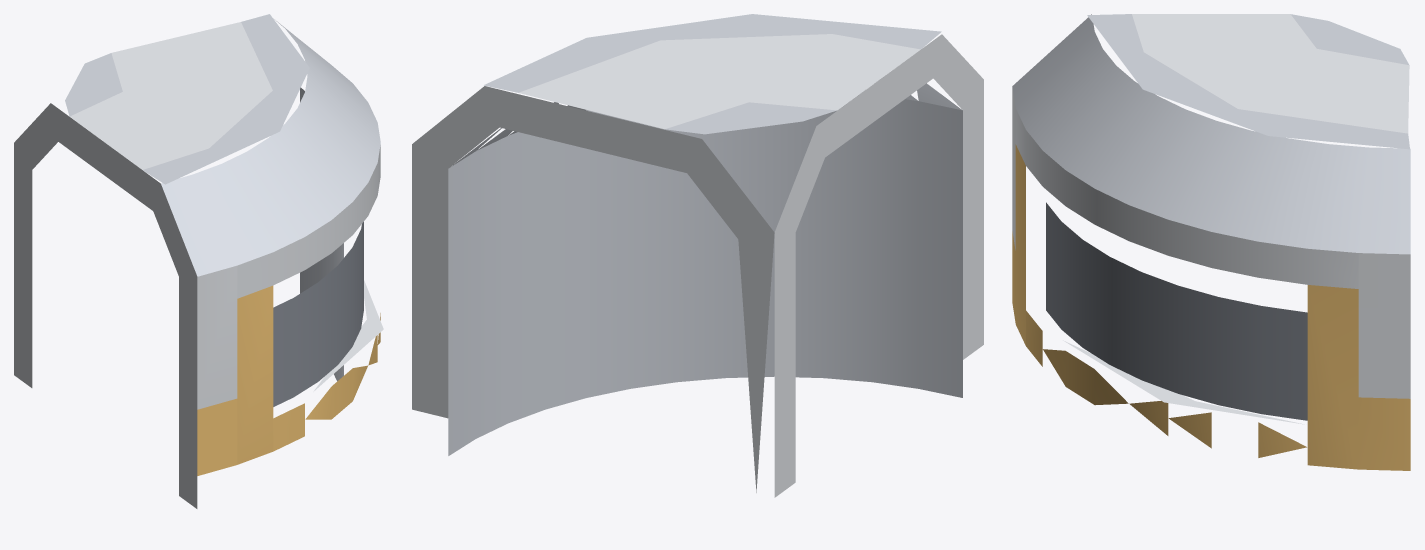
Rendered from corridor_cornerRoundWindow_lod1.glb.
The picture shows the model from 3 angles, left to right: view 1: azimuth 30°, elevation 25°; view 2: azimuth 150°, elevation 25°; view 3: azimuth 270°, elevation 25°; orthographic projection. The views are drawn at different scales.
Parts seen in each view (by area): view 1: corridor_cornerRoundWindow.001; view 2: corridor_cornerRoundWindow.001; view 3: corridor_cornerRoundWindow.001.
Part boxes in pixels (x1,y1,x2,y2): corridor_cornerRoundWindow.001: [14, 14, 383, 508]; corridor_cornerRoundWindow.001: [412, 14, 983, 497]; corridor_cornerRoundWindow.001: [1012, 14, 1410, 470].
Bounding box in the file's own units: 1 × 1 × 1.
